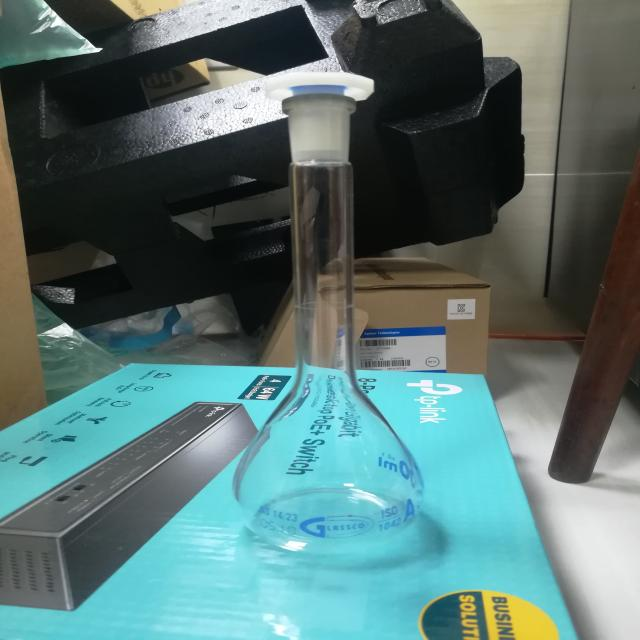Volumetric_Flask: (215, 44, 458, 564)
